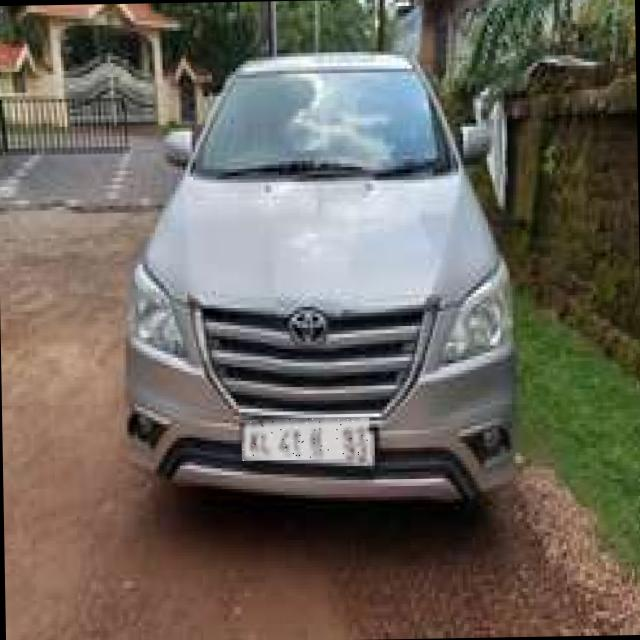Plate: (242, 419, 371, 462)
